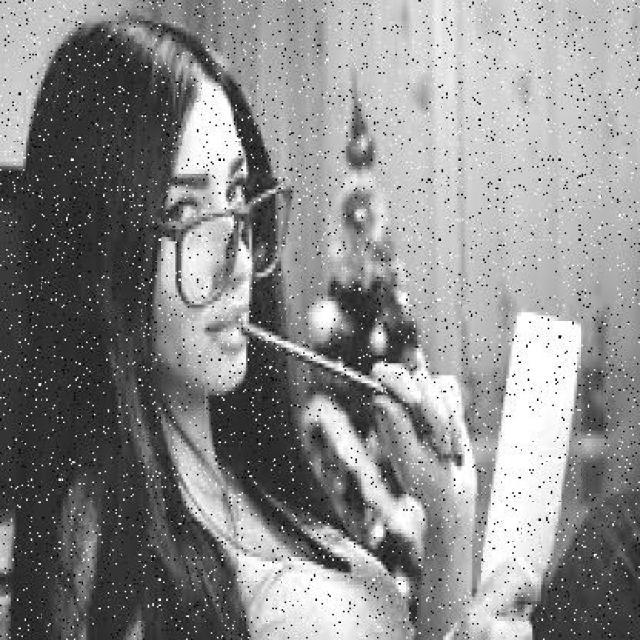mask: (162, 168, 300, 322)
